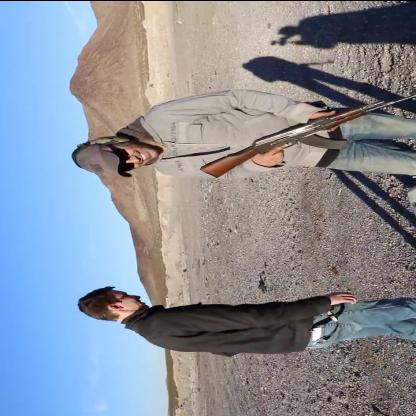long weapon: (202, 80, 416, 180)
